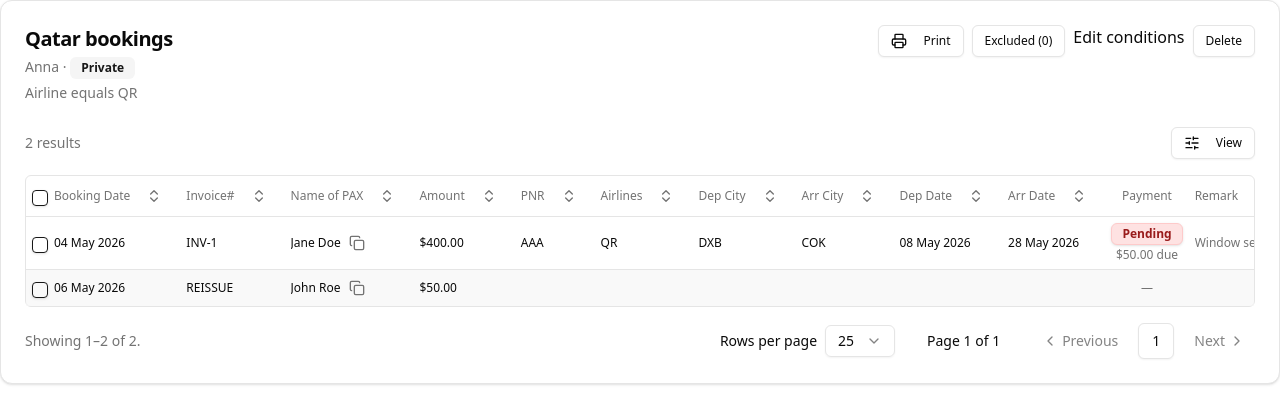
Test: GroupResultsPage › excludes the selected rows and clears the selection
Click the checkbox named "Select Jane Doe".
click(40, 244)  # box left=32, top=236, right=48, bottom=252
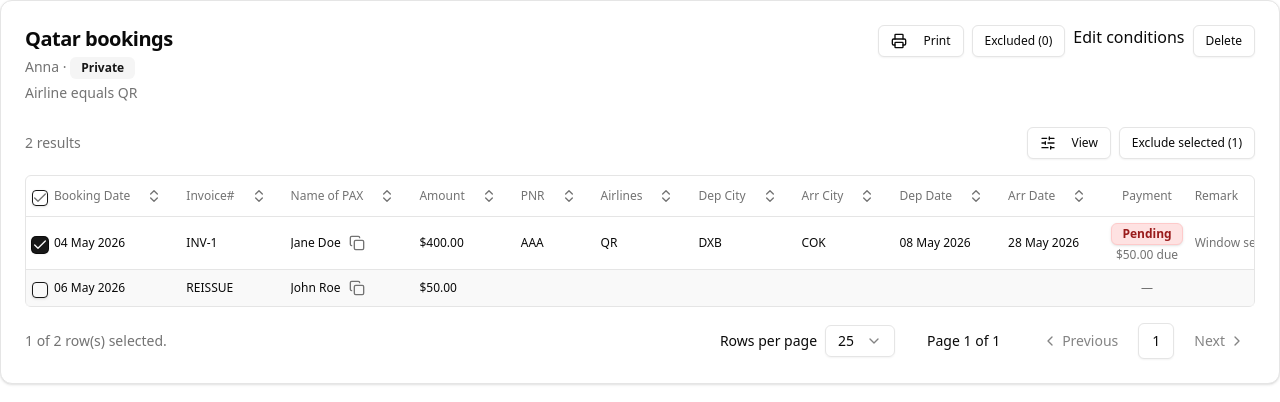
Click the button "Exclude selected (1)".
click(1187, 143)  # box left=1119, top=127, right=1255, bottom=159
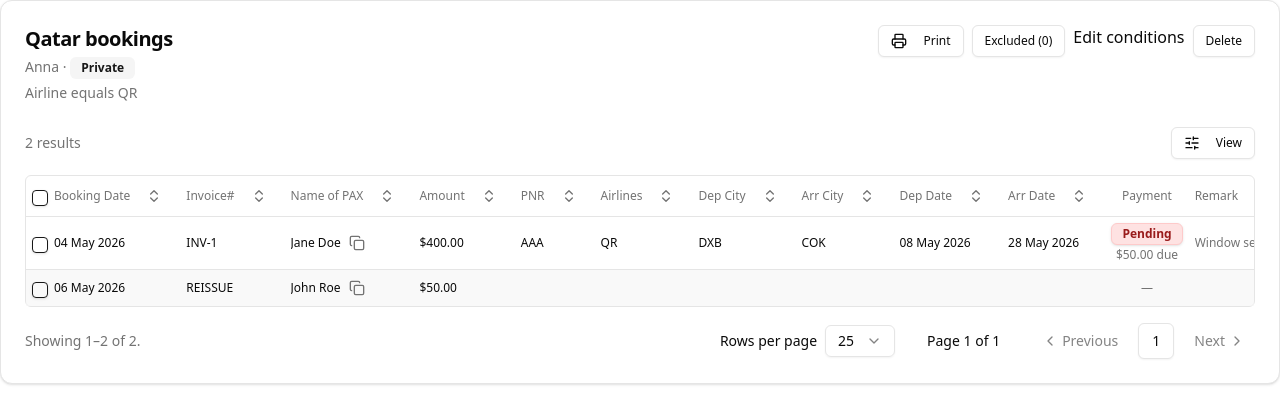
Result: the button "Exclude selected" is gone
